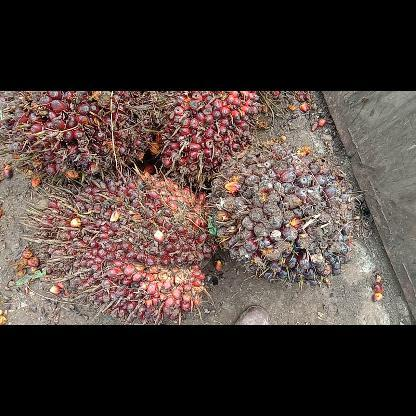Kurang masak: (208, 134, 368, 290)
TBS masak: (24, 160, 210, 324), (0, 91, 158, 187), (150, 91, 268, 191)
